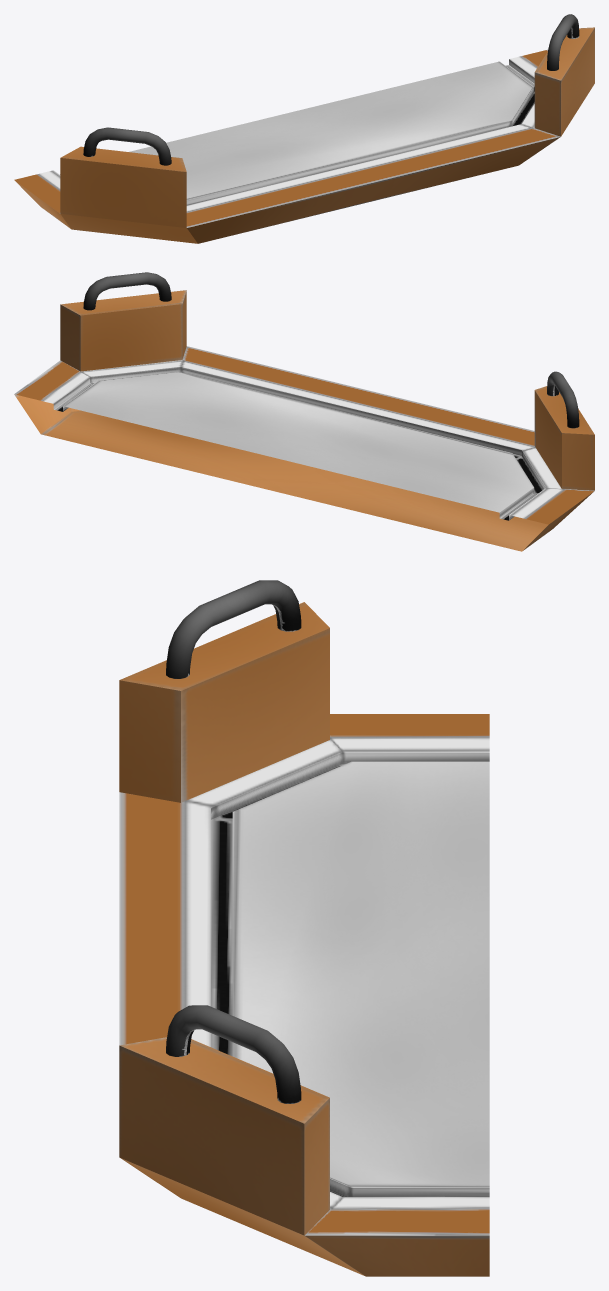
File: platform-end.fbx
3 renders of one model, top to bottom at view 1: azimuth 30°, elevation 25°; view 2: azimuth 150°, elevation 25°; view 3: azimuth 270°, elevation 25°, orthographic. The views are drawn at different scales.
Visible parts, largest first — view 1: Plane; view 2: Plane; view 3: Plane.
Part boxes in pixels (<box>): Plane: <box>14,14,594,243</box>; Plane: <box>14,272,594,551</box>; Plane: <box>119,580,489,1276</box>.
Bounding box in the file's own units: 1000 × 211 × 300.
